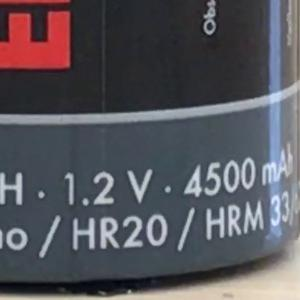HR20: (64, 205, 171, 259)
